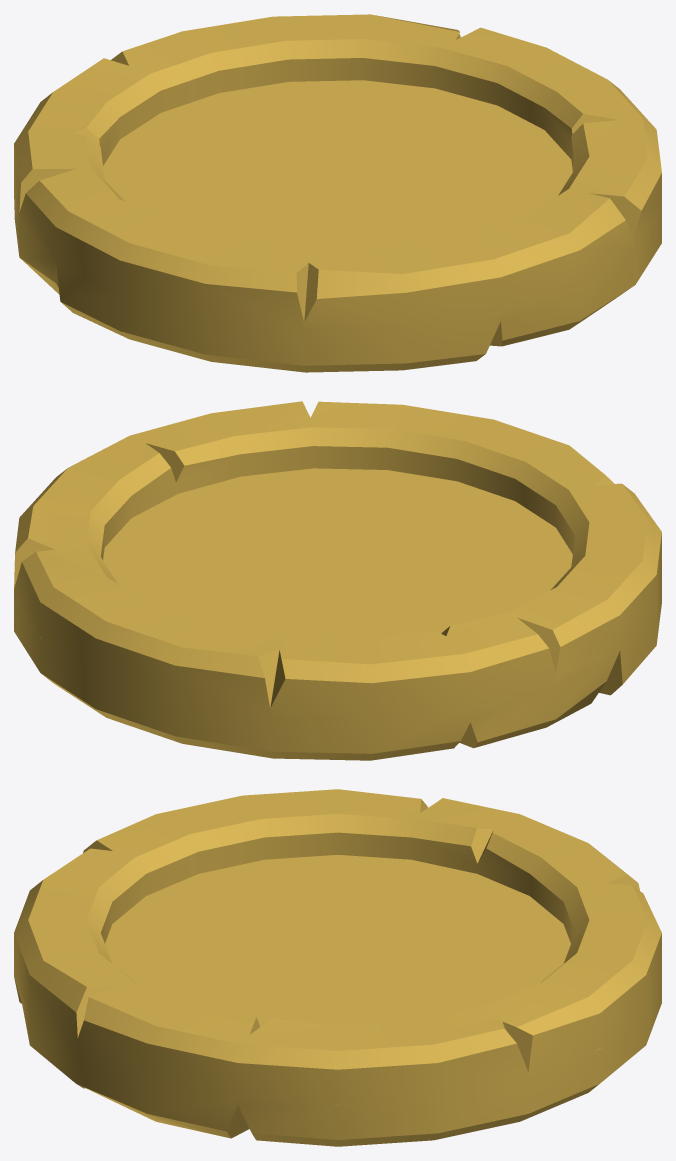
Rendered from coin.fbx.
3 views of the same model, one above another, from view 1: azimuth 30°, elevation 25°; view 2: azimuth 150°, elevation 25°; view 3: azimuth 270°, elevation 25° (orthographic).
Parts seen in each view (by area): view 1: Cylinder; view 2: Cylinder; view 3: Cylinder.
Boxes of the visible parts, x1,y1,x2,y2 form: Cylinder: [14, 14, 661, 372]; Cylinder: [14, 401, 661, 760]; Cylinder: [14, 789, 661, 1146].
Size of the model in its own units: 17.81 by 3.19 by 17.81.
